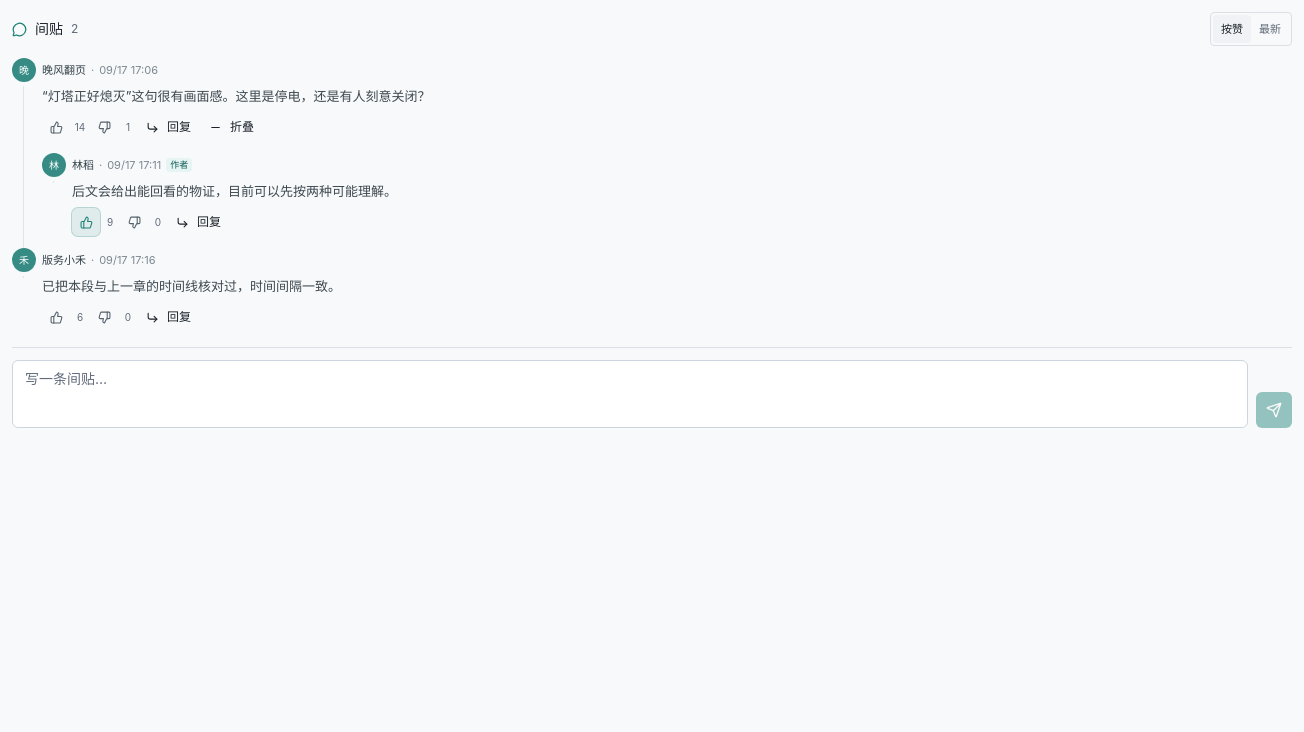
CommentThread › 支持赞与发送根回复
Click the button named "赞" next to "14".
click(56, 127)  # box 42,113 -> 70,141
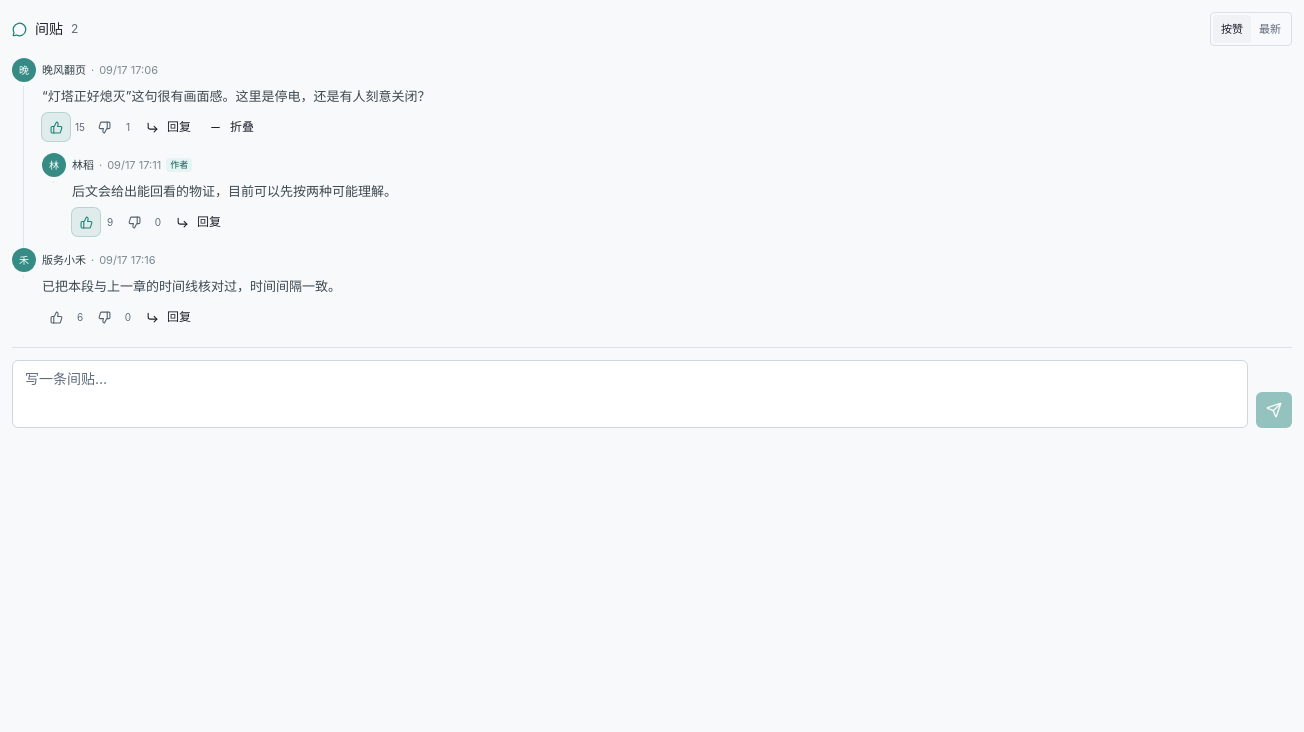
Expected: the button named "赞" next to "15" is pressed, 42,113 -> 70,141
Type "新间贴内容" into the text box named "间贴内容".
click(630, 394); type("新间贴内容")  # box 12,360 -> 1248,428
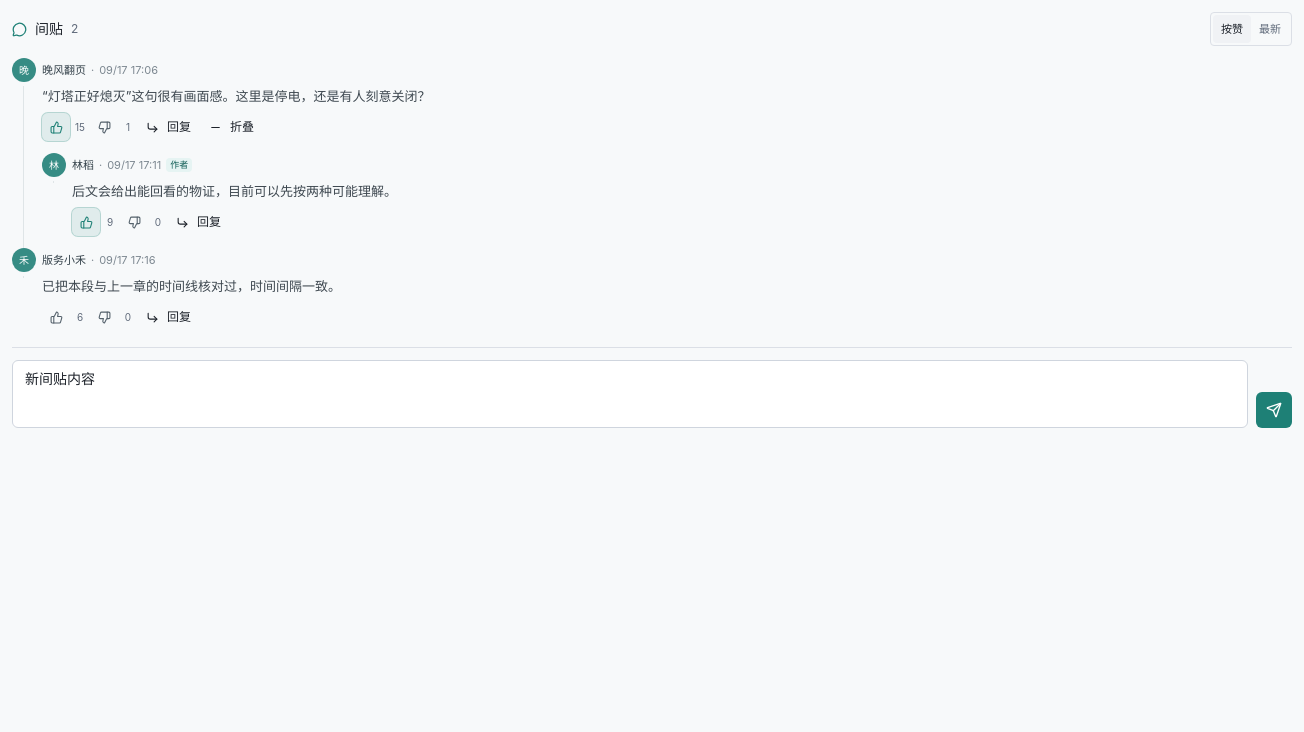
Click the button named "发送间贴".
click(1274, 410)  # box 1256,392 -> 1292,428
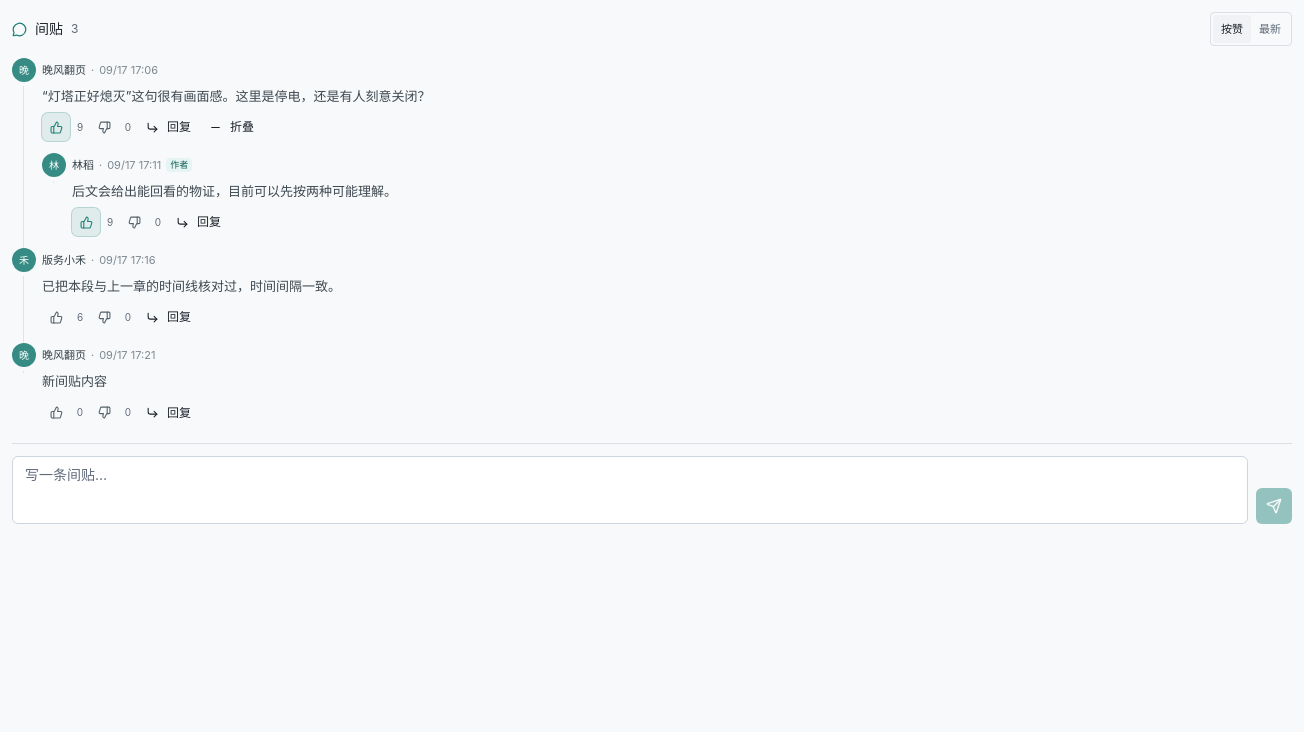
Expected: the text "新间贴内容" is shown, 42,373 -> 107,389
